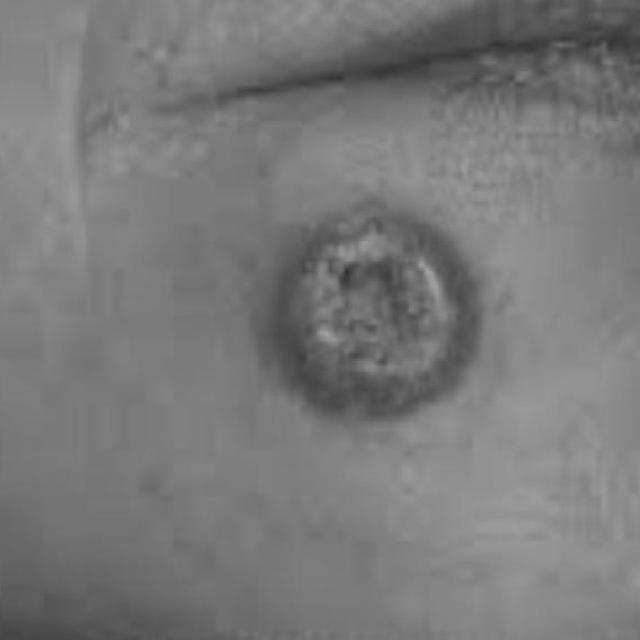nodule: (218, 185, 554, 533)
